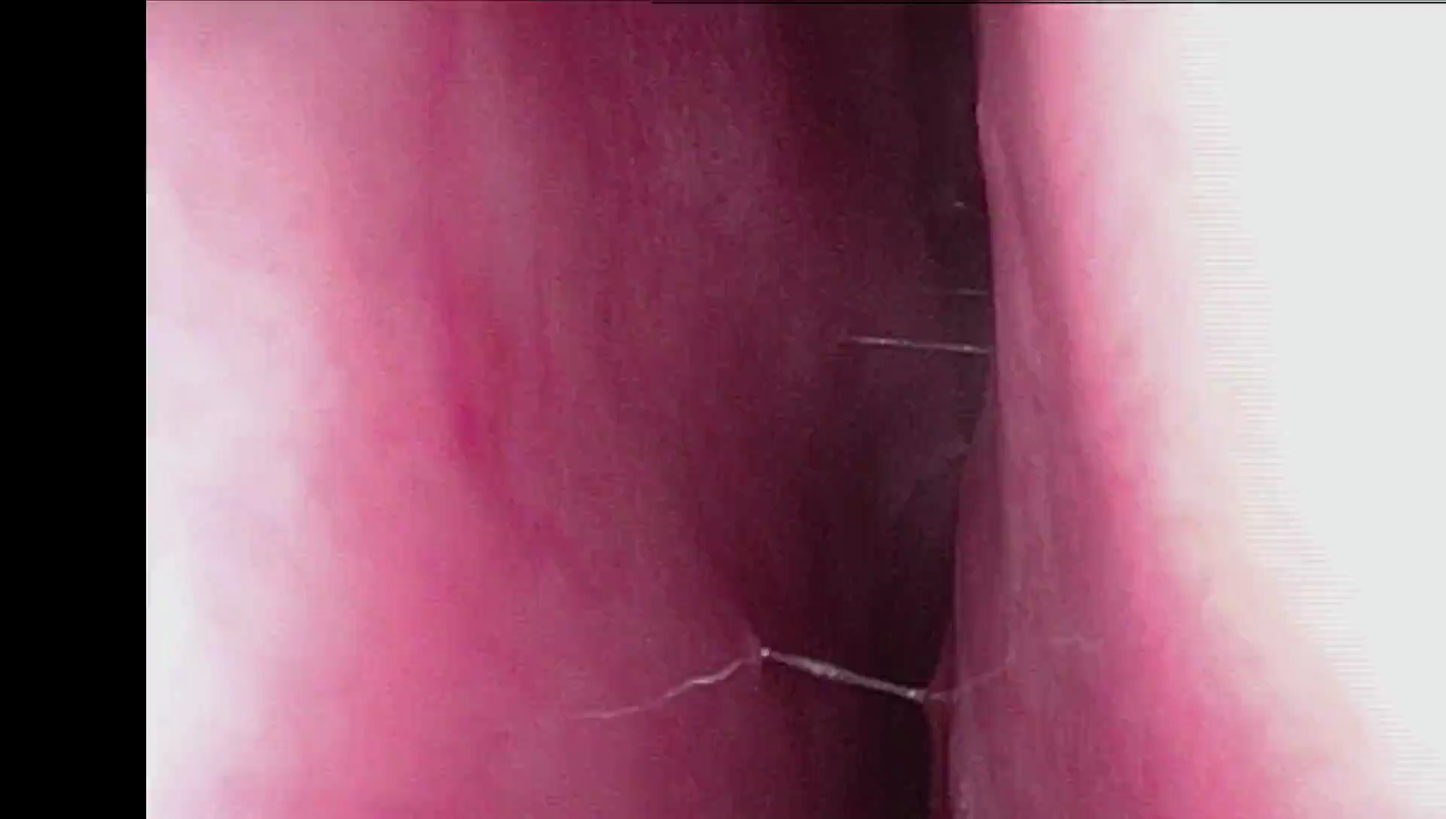close_wall: (1017, 7, 1442, 819), (158, 7, 493, 819)
next: (815, 504, 968, 819)
